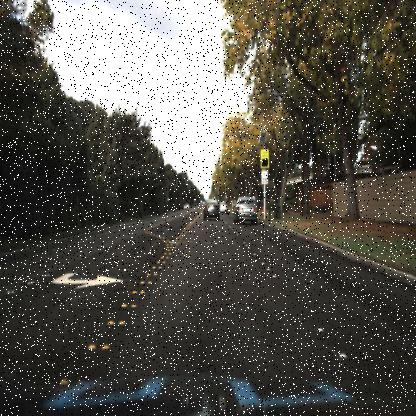car: (230, 190, 258, 224), (199, 196, 220, 221), (181, 198, 191, 216), (219, 198, 229, 214)
